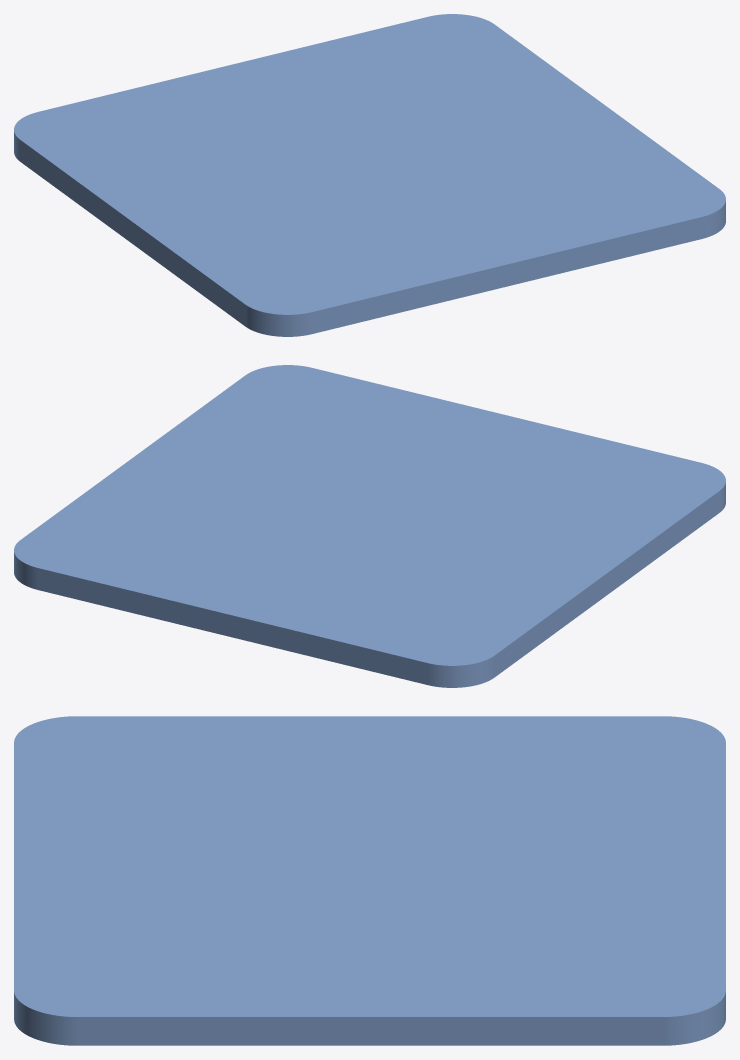
The model's file is step_01.glb.
The picture shows the model from 3 angles, top to bottom: view 1: azimuth 30°, elevation 25°; view 2: azimuth 150°, elevation 25°; view 3: azimuth 270°, elevation 25°; orthographic projection. The views are drawn at different scales.
Parts seen in each view (by area): view 1: part__top plate; view 2: part__top plate; view 3: part__top plate.
Part boxes in pixels (left/top/right/bottom): part__top plate: left=14, top=14, right=725, bottom=336; part__top plate: left=14, top=365, right=725, bottom=687; part__top plate: left=14, top=716, right=725, bottom=1045.
Bounding box in the file's own units: 90 × 4 × 90.
